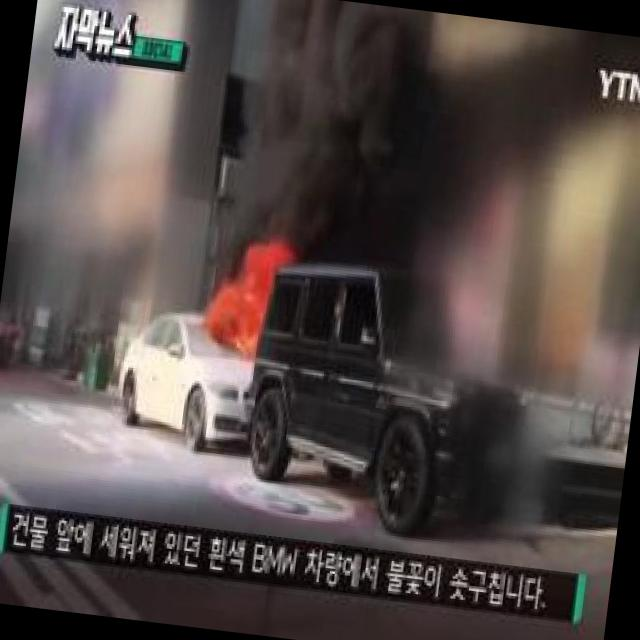Fire: (218, 232, 298, 350)
